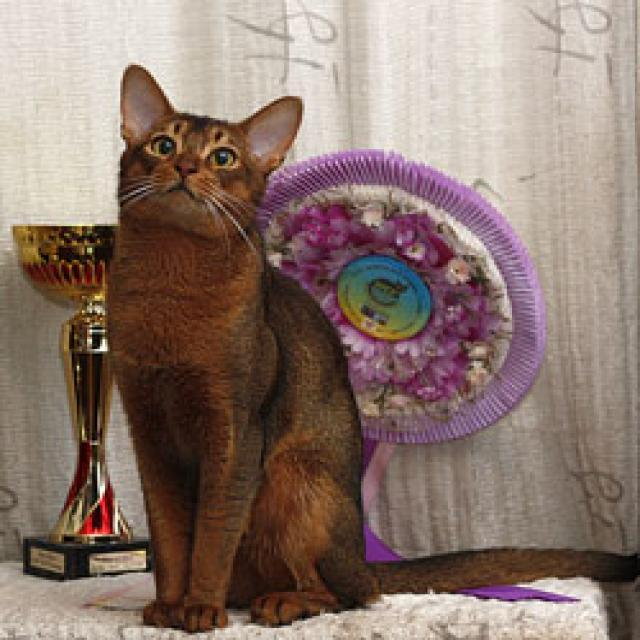Abyssinian: (115, 65, 305, 240)
